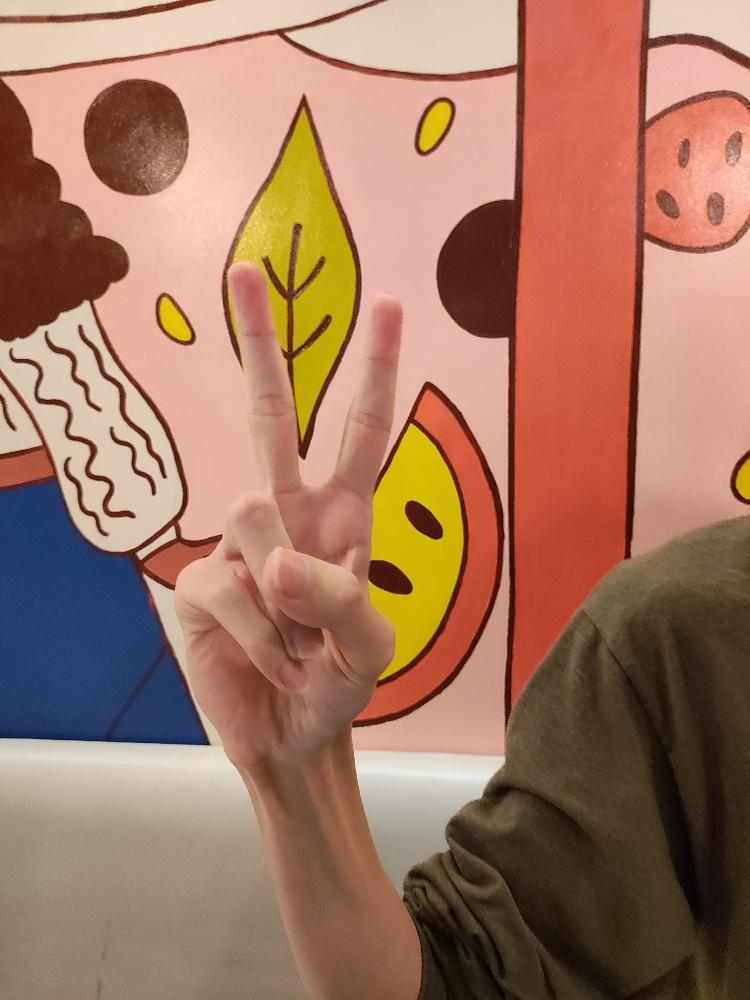v: (170, 257, 405, 765)
